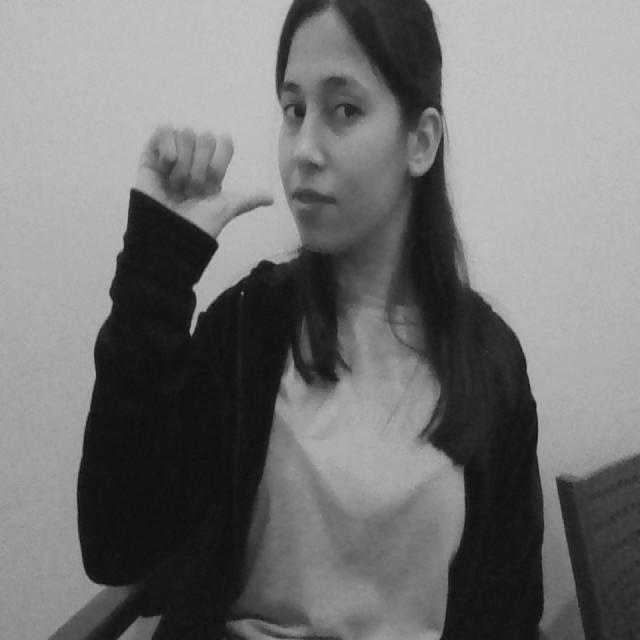icmek: (127, 111, 312, 241)
